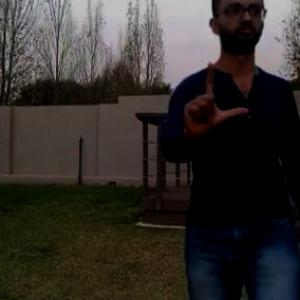land_hand: (178, 58, 252, 145)
